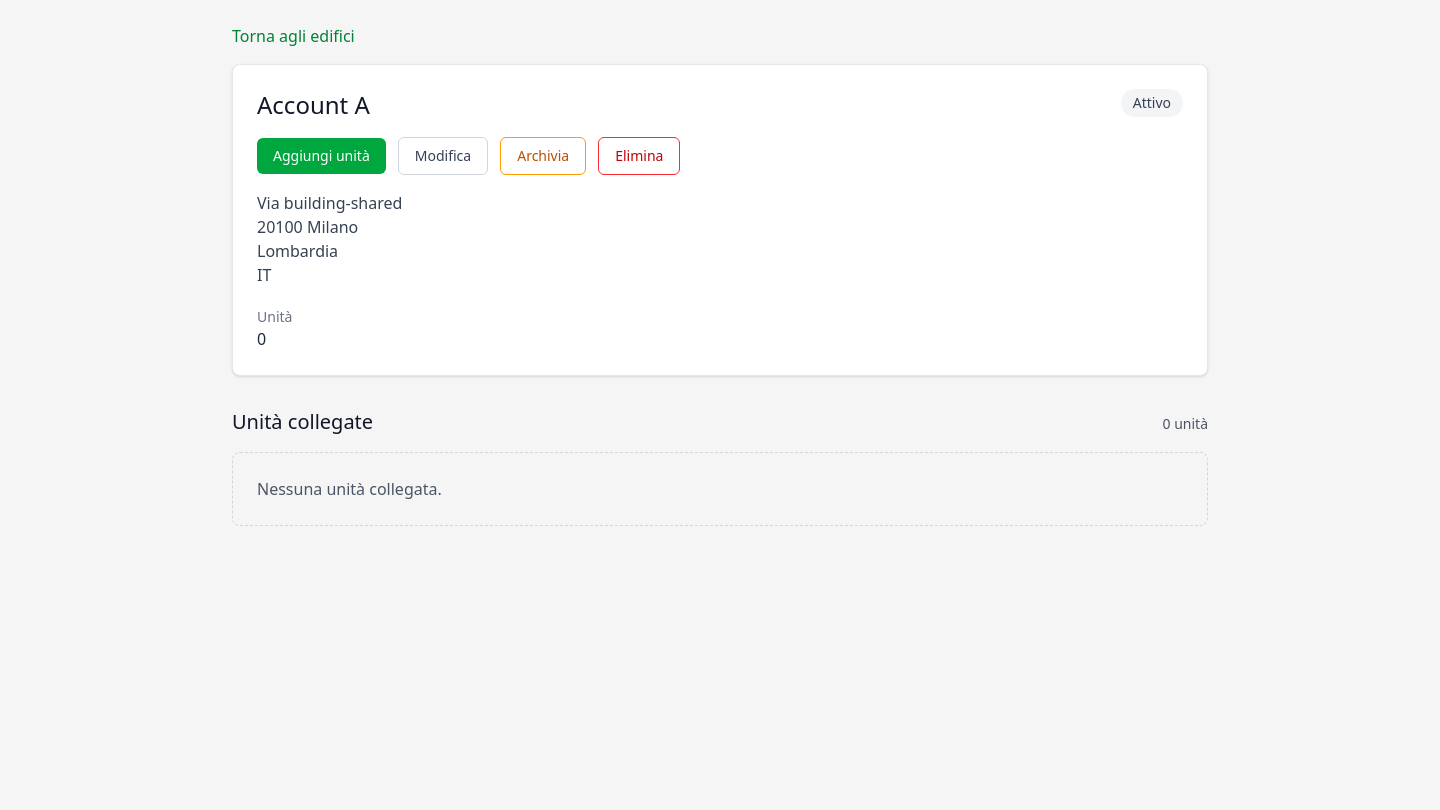
Scenario: A6.4 Building detail lifecycle › archivia soltanto il Building omonimo dell’account autenticato
Click the button "Archivia" at (543, 156), box [500,137,586,175]
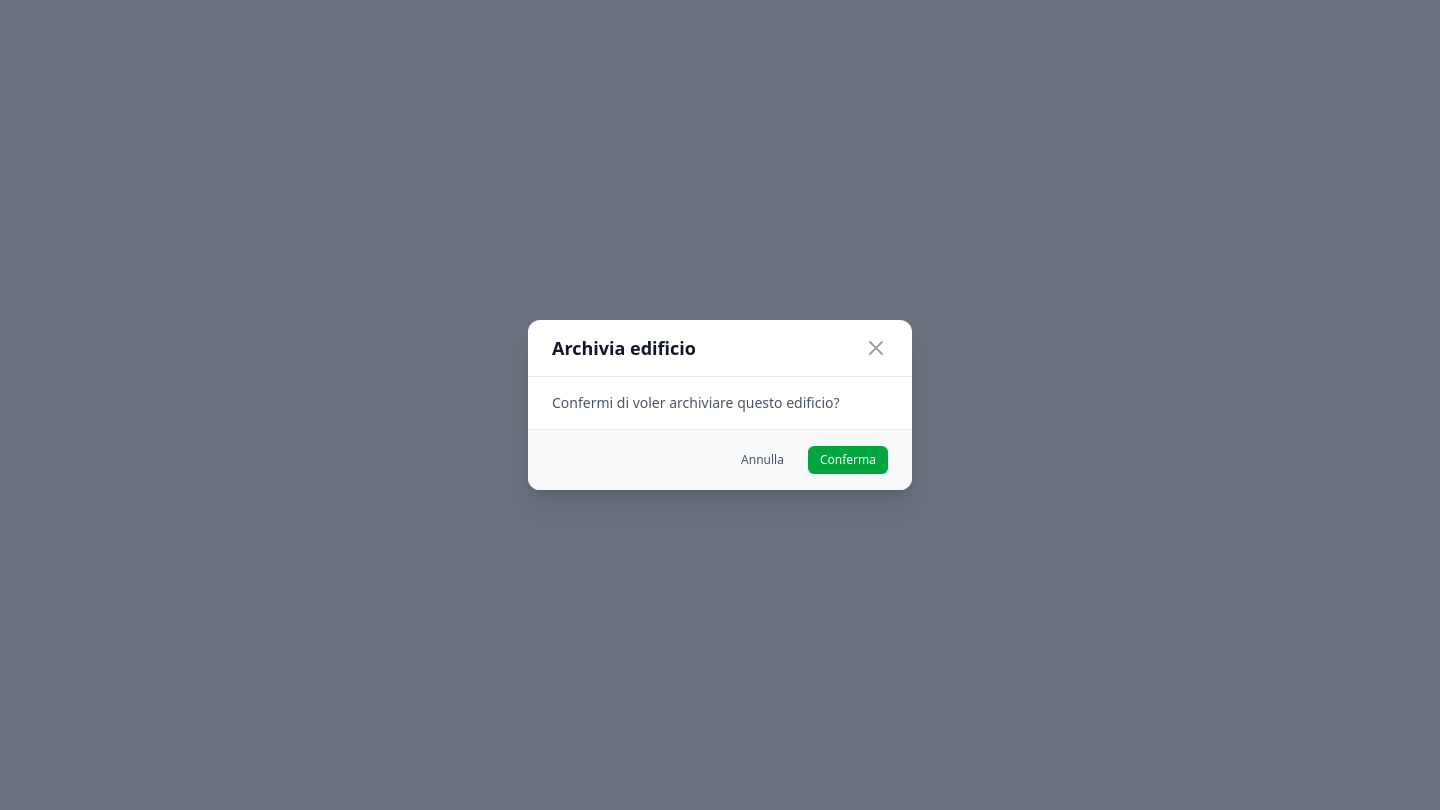
Expected: the heading "Archivia edificio" is shown, [552,336,696,360]
Click the button "Conferma" at (848, 460), box [808,446,888,474]
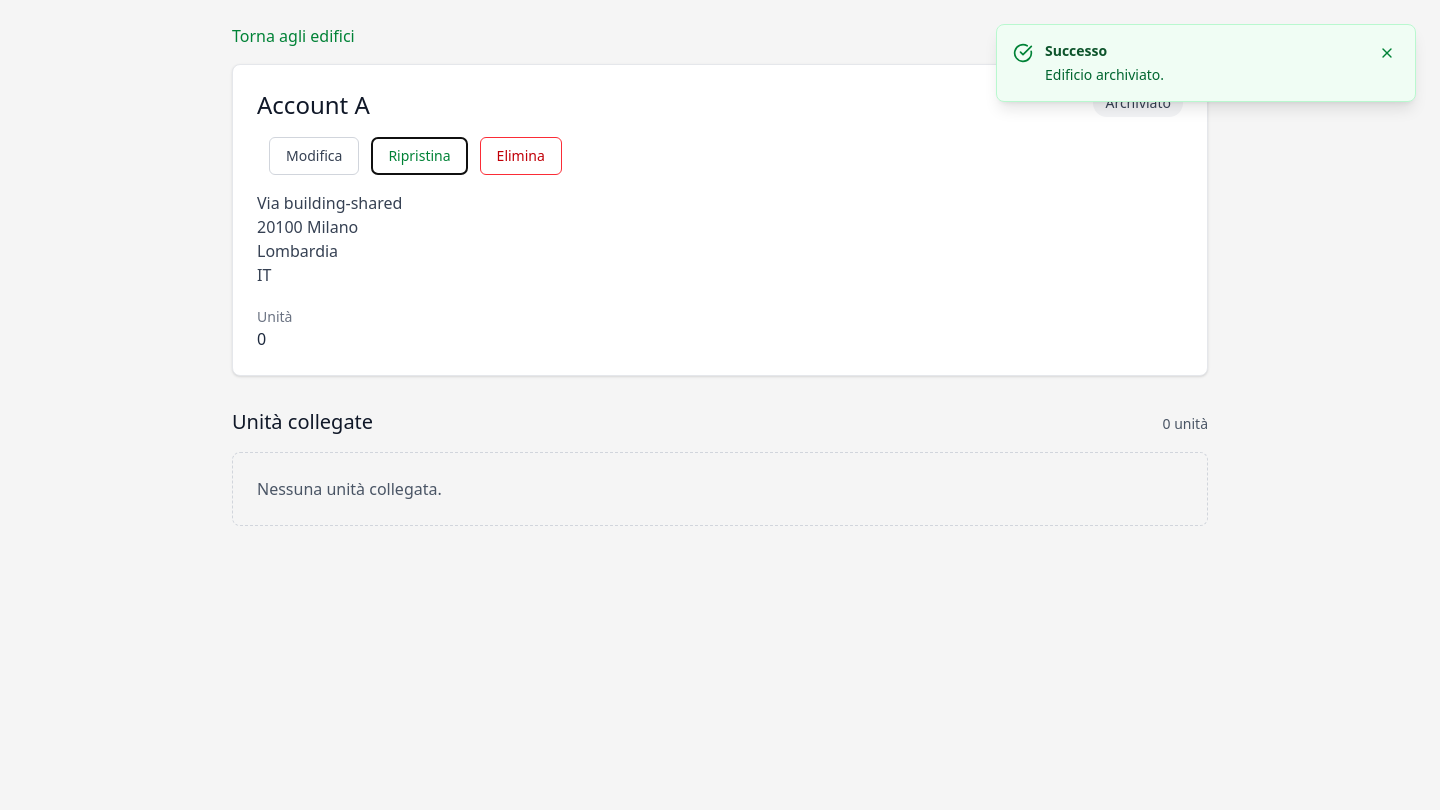
Expected: the text "Edificio archiviato." is shown, [1045,65,1164,84]
Expected: the text "Archiviato" is shown, [1094,89,1183,117]
